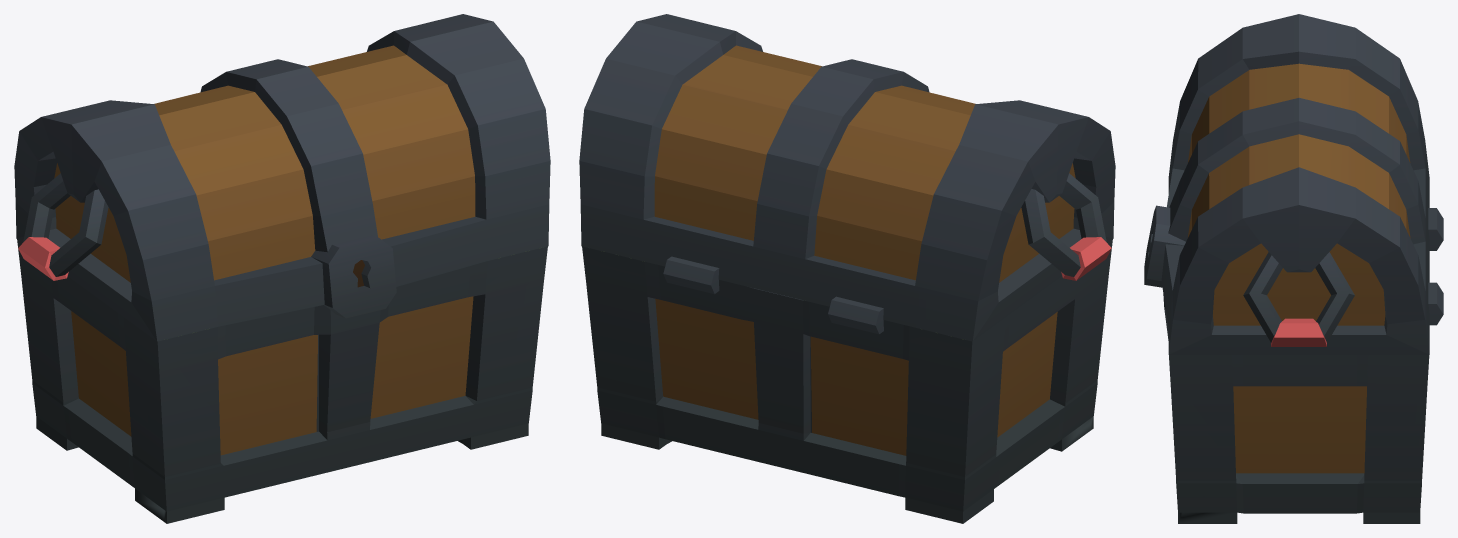
The model's file is Chest.fbx.
3 renders of one model, left to right at view 1: azimuth 30°, elevation 25°; view 2: azimuth 150°, elevation 25°; view 3: azimuth 270°, elevation 25°, orthographic. The views are drawn at different scales.
Parts seen in each view (by area): view 1: Lid, Chest; view 2: Lid, Chest; view 3: Lid, Chest.
Part boxes in pixels (x1,y1,x2,y2): Lid: [14, 14, 550, 341]; Chest: [17, 239, 547, 523]; Lid: [579, 14, 1115, 341]; Chest: [582, 239, 1112, 523]; Lid: [1144, 14, 1443, 354]; Chest: [1163, 294, 1429, 523].
Size of the model in its own units: 1.12 by 0.7633 by 0.6224.
